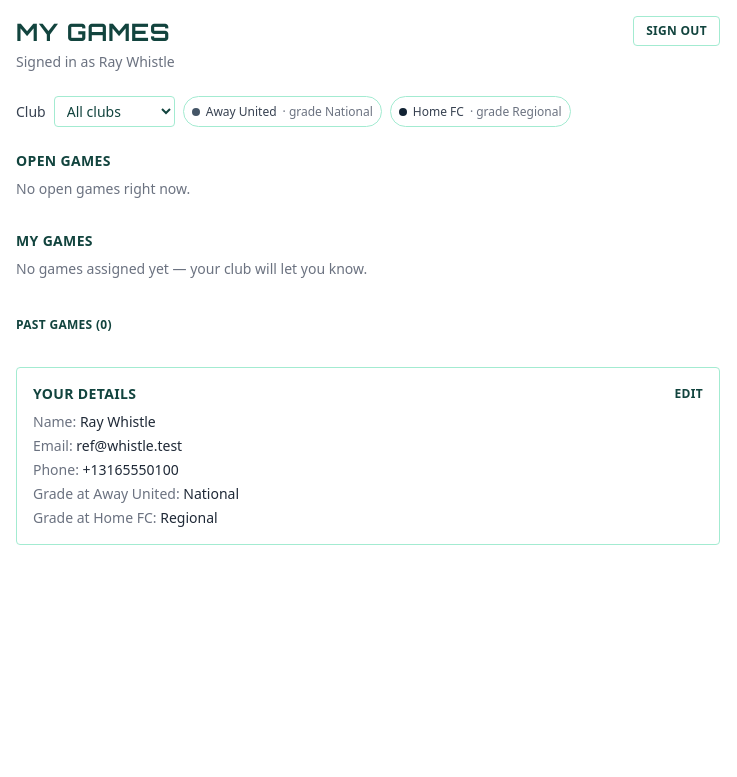
Scenario: RefereeHome — the referee's own page › edits the contact card through user-profile.php
Note: The Edit control appears once the profile has loaded, not when the card mounts.
Step 1. Click the button "Edit" → (689, 394), box [675, 386, 703, 402]
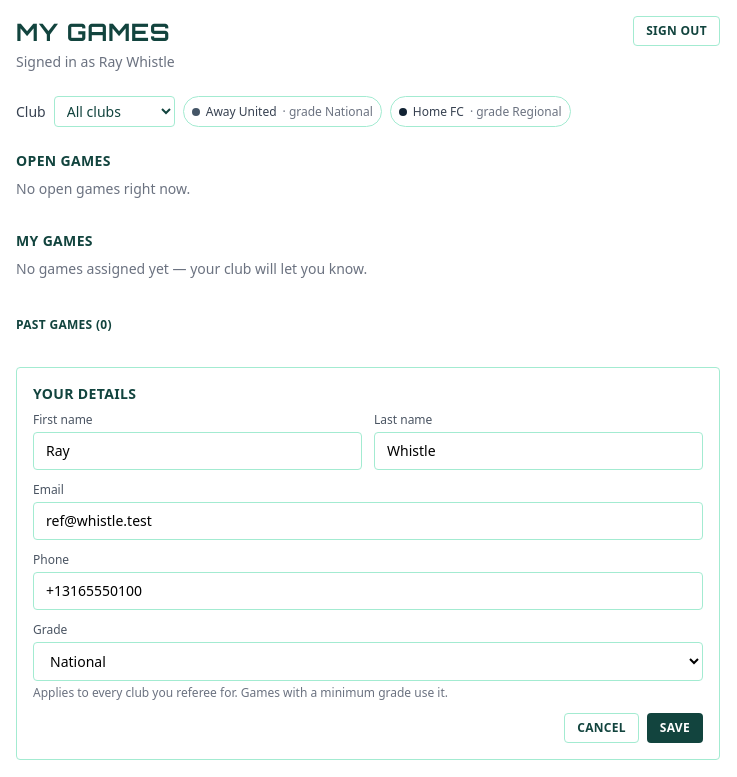
Step 2. Replace the text in the field labelled "Phone" with "316-555-0101" → (368, 591), box [33, 572, 703, 610]
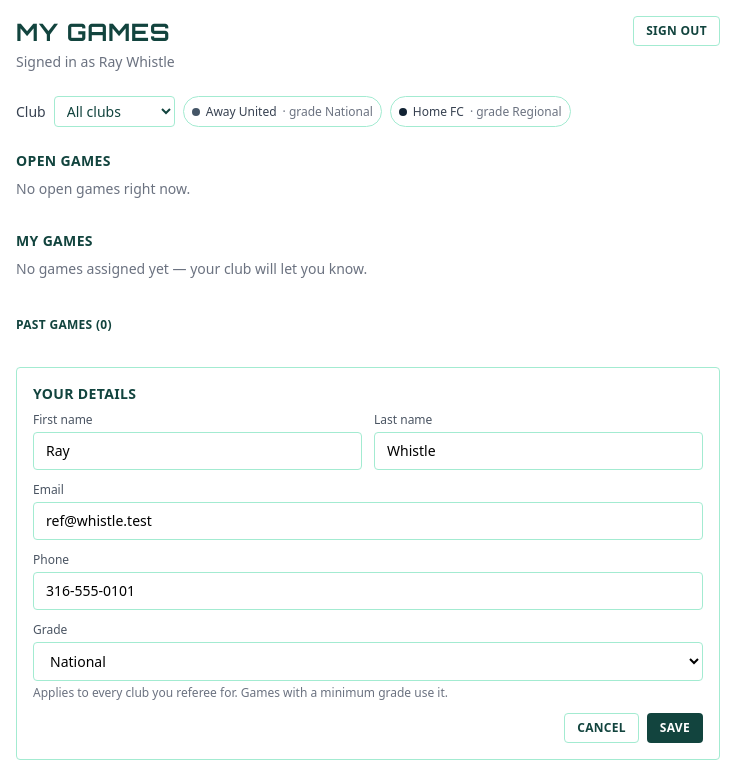
Step 3. Submit the form named "Save", box [33, 412, 703, 743]
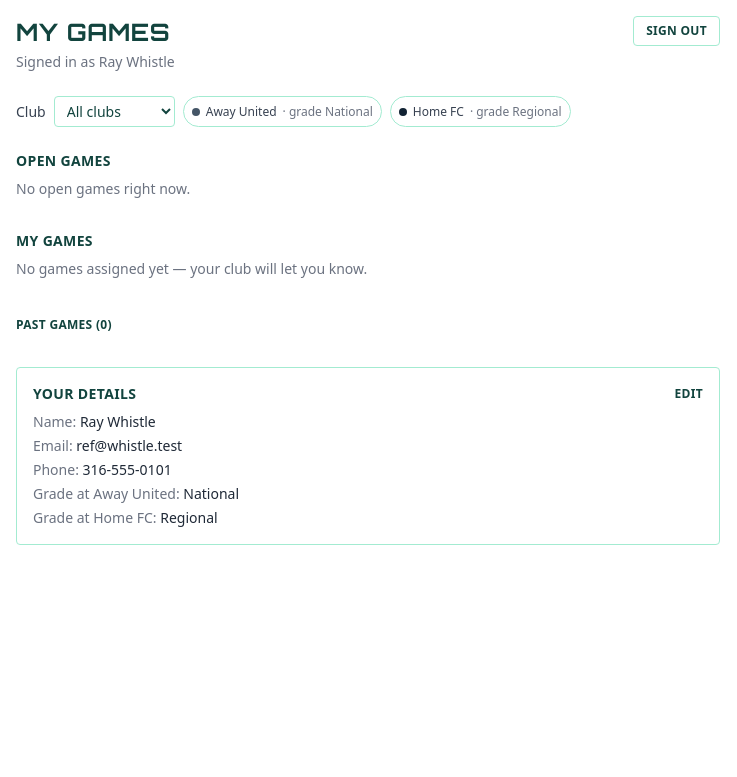
Expected: the text "316-555-0101" is shown, [82, 460, 172, 479]
